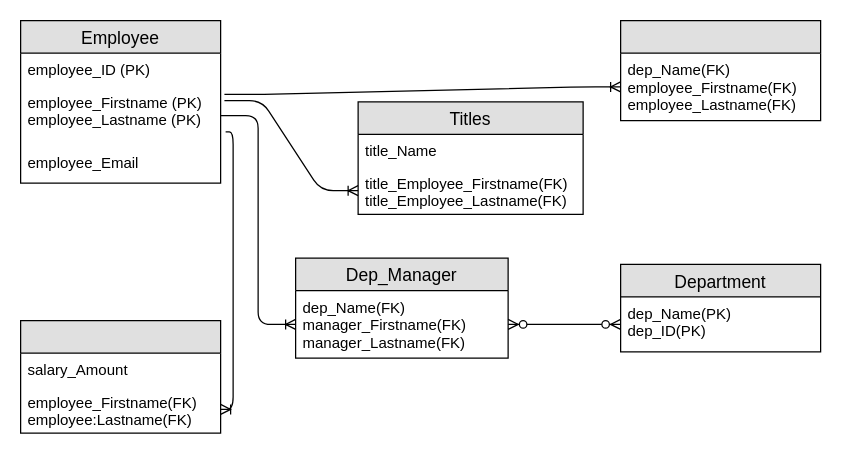
This 841x454 diagram has some shape labels left out. The shapes that lost their labels are listed below. From the top down, each one's box as (x1, y1, x2, y2) in pixels, then its label:
(619, 19, 821, 121): Dep_Employee
(19, 319, 221, 433): Salaries
